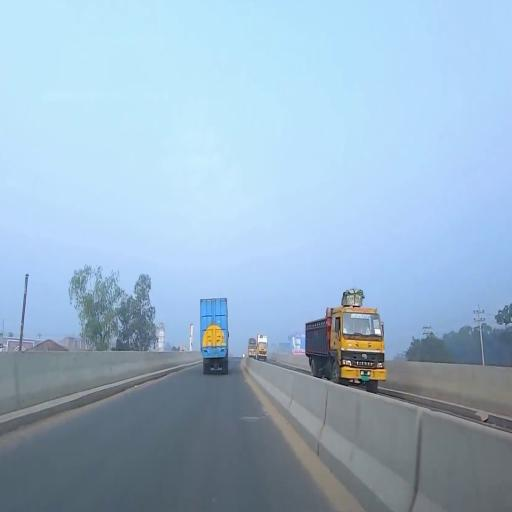truck: (306, 287, 387, 392), (201, 298, 230, 375), (257, 334, 269, 360), (249, 339, 257, 359)
